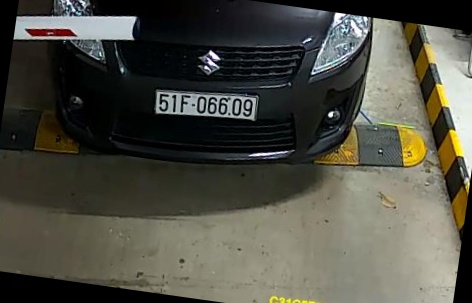plate: (150, 83, 265, 134)
